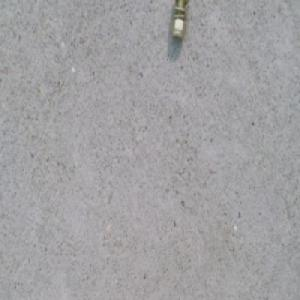BoltNutSet: (169, 0, 191, 41)
